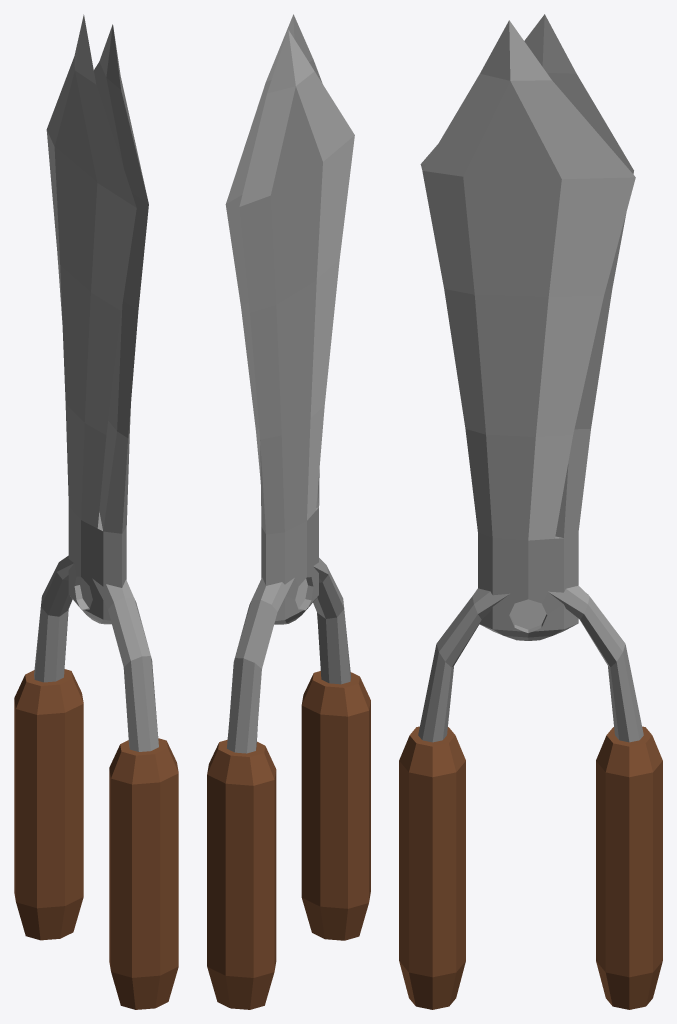
File: shears01.obj
The picture shows the model from 3 angles, left to right: view 1: azimuth 30°, elevation 25°; view 2: azimuth 150°, elevation 25°; view 3: azimuth 270°, elevation 25°; orthographic projection. The views are drawn at different scales.
Visible parts, largest first — view 1: Cylinder.001; view 2: Cylinder.001; view 3: Cylinder.001.
Part boxes in pixels (left/top/right/bottom): Cylinder.001: left=14, top=14, right=178, bottom=1009; Cylinder.001: left=207, top=14, right=370, bottom=1009; Cylinder.001: left=399, top=14, right=662, bottom=1009.
Size of the model in its own units: 0.035 by 0.4799 by 0.117.
Materials: 1 (1 with a texture image).
